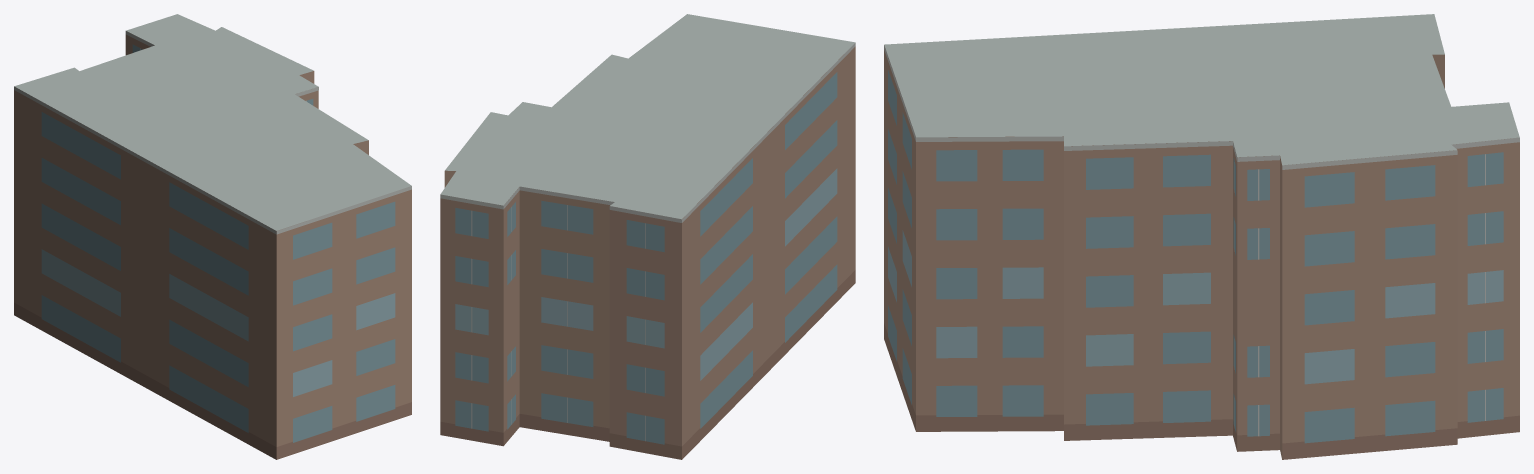
File: survey-upis-33033859.glb
3 views of the same model, side by side, from view 1: azimuth 30°, elevation 25°; view 2: azimuth 150°, elevation 25°; view 3: azimuth 270°, elevation 25° (orthographic). The views are drawn at different scales.
Visible parts, largest first — view 1: survey-upis-33033859.tmp; view 2: survey-upis-33033859.tmp; view 3: survey-upis-33033859.tmp.
Boxes of the visible parts, <box> form: survey-upis-33033859.tmp: <box>14,14,411,459</box>; survey-upis-33033859.tmp: <box>440,14,855,459</box>; survey-upis-33033859.tmp: <box>884,14,1519,459</box>.
Bounding box in the file's own units: 16.81 × 15.25 × 29.84.
